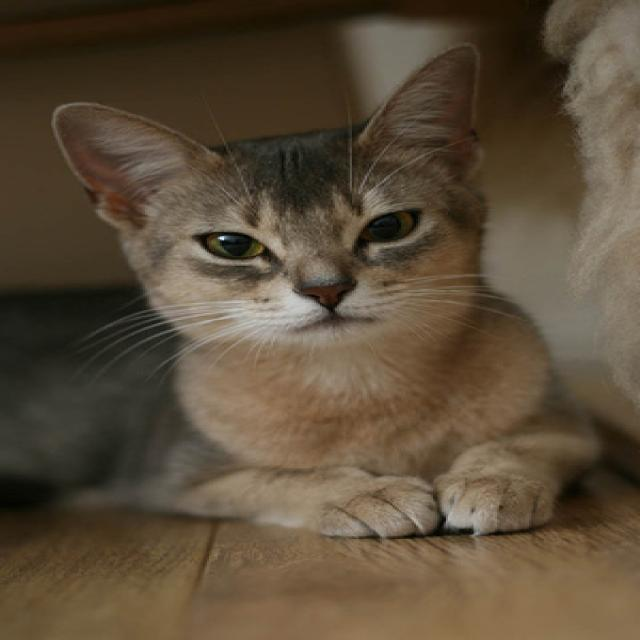Abyssinian: (0, 43, 617, 546)
